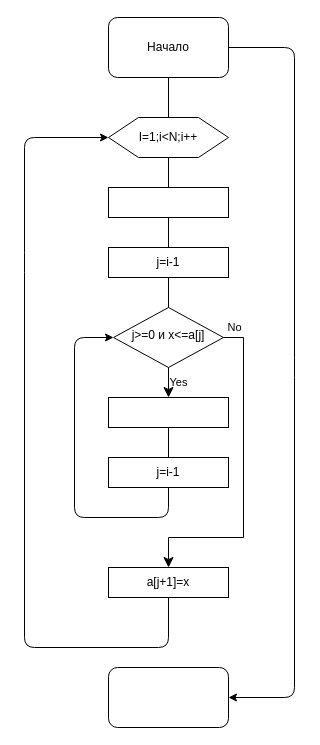
Some shapes in this 320 by 745 pixel diagram are drawn without their labels. The shapes that lost their labels are listed below. From the top down, each one's centre as x and y in pixels, then its label:
(x=168, y=202): x=a[i]
(x=168, y=412): a[j+1]=a[j]
(x=168, y=697): Конец
